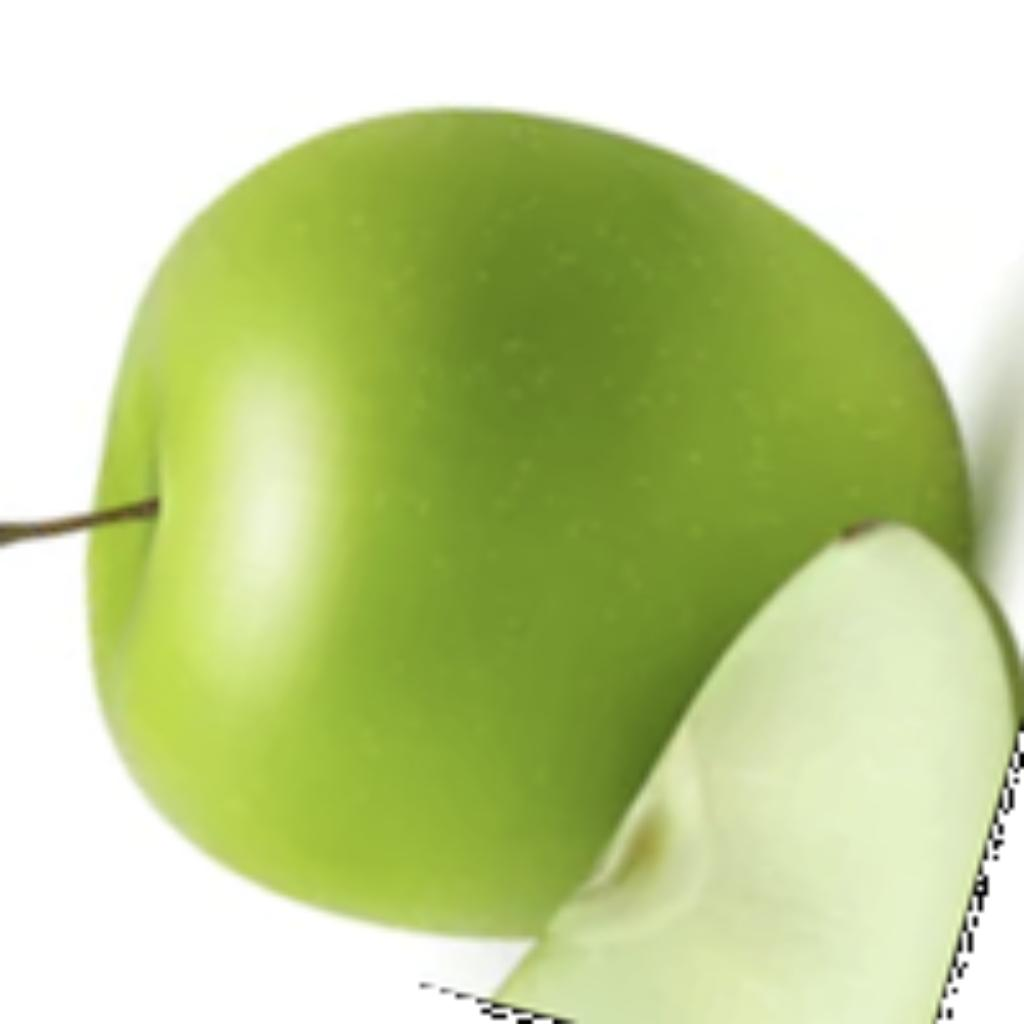apple: (22, 97, 1014, 1019)
